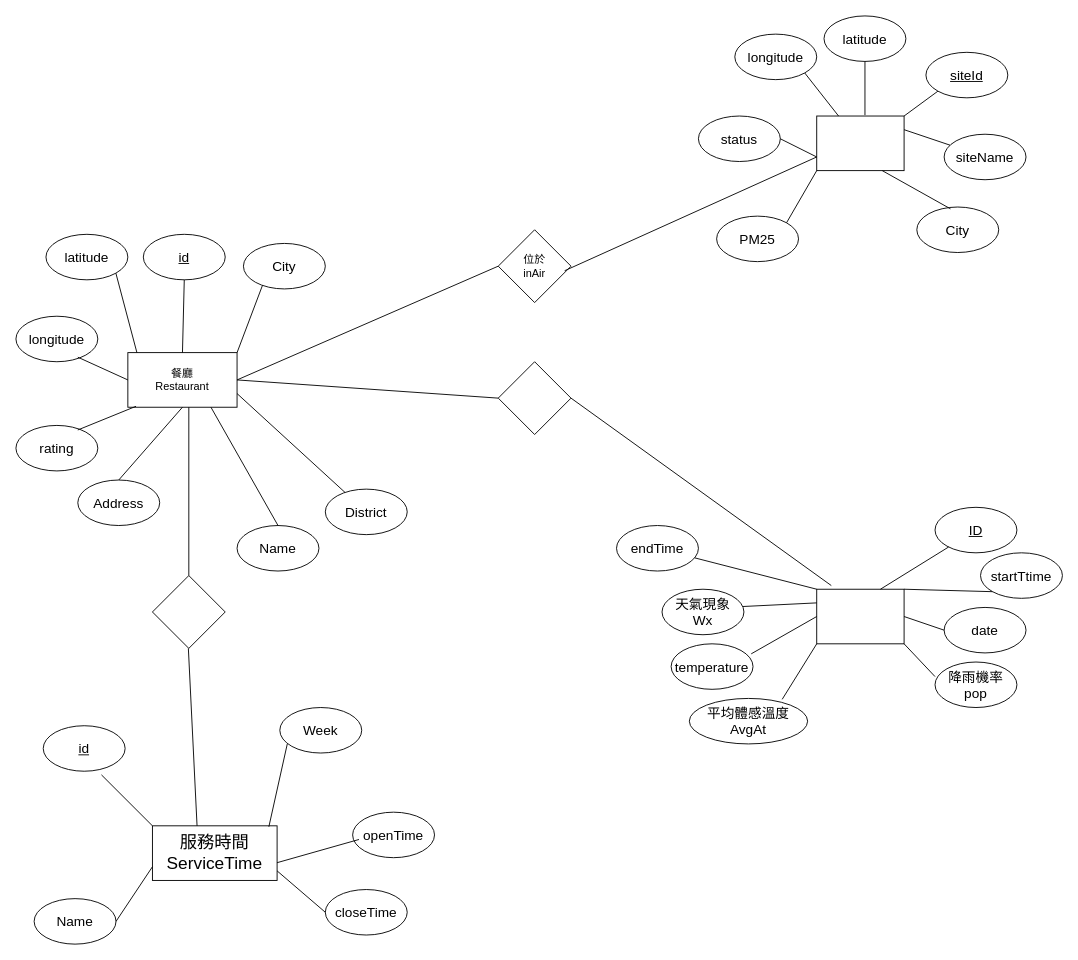
The diagram is 1078 pixels wide and 960 high, and some of its shapes have lost their labels. Each missing label, with the centre of its shape:
Service: point (188, 611)
位於 inWeather: point (534, 398)
天氣 Weather: point (860, 616)
空氣品質 AQI: point (860, 143)
